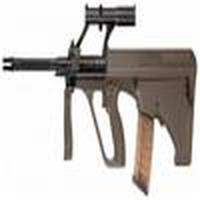gun: (1, 50, 200, 166)
